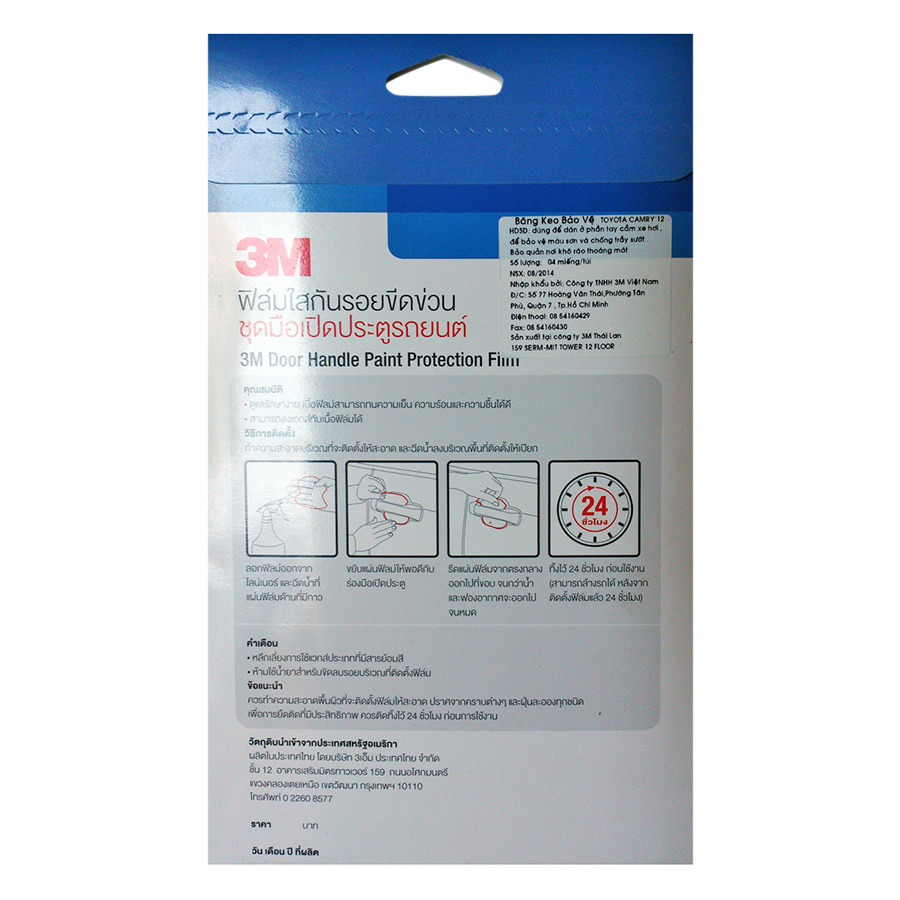3M: (225, 229, 329, 286)
